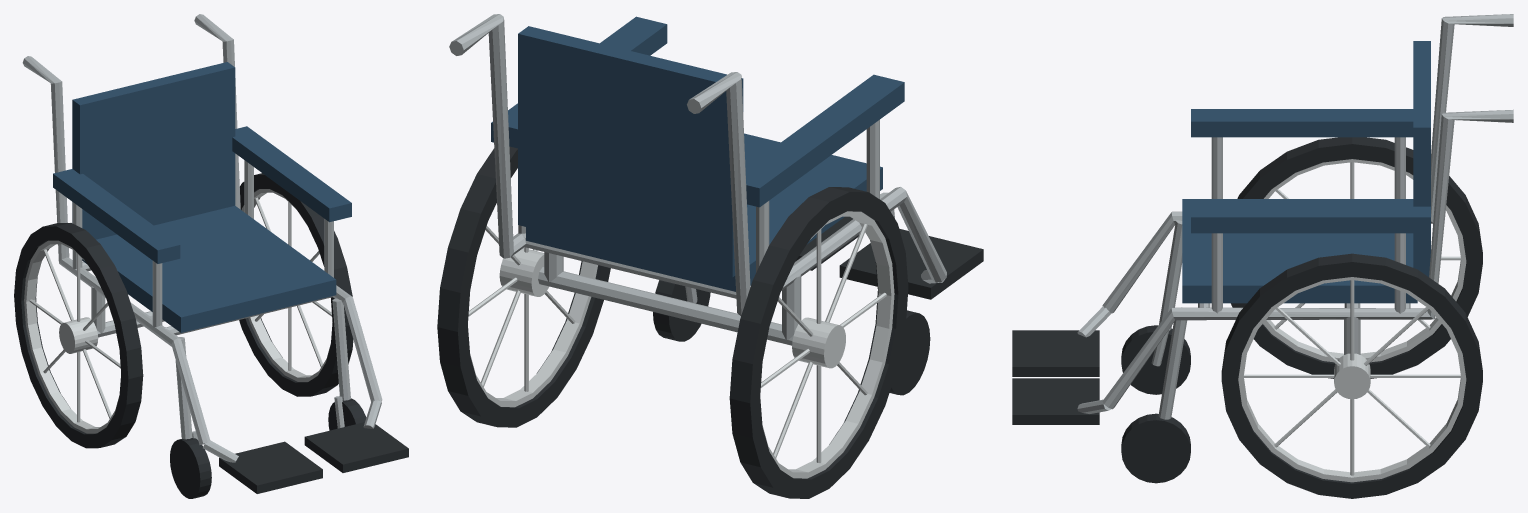
3 renders of one model, left to right at view 1: azimuth 30°, elevation 25°; view 2: azimuth 150°, elevation 25°; view 3: azimuth 270°, elevation 25°, orthographic. The views are drawn at different scales.
Visible parts, largest first — view 1: UprightBackCushion, SeatCushion, LeftOpenRearTire, RightOpenRearTire, LeftContinuousSideFrameAndPushHandle, LeftArmPad, RightArmPad, RightFootplate, LeftFootplate, LeftInnerMetalRim, RightContinuousSideFrameAndPushHandle, LeftFrontCaster (+9 smaller); view 2: UprightBackCushion, LeftOpenRearTire, RightOpenRearTire, LeftContinuousSideFrameAndPushHandle, SeatCushion, LeftArmPad, LeftInnerMetalRim, RightContinuousSideFrameAndPushHandle, SingleTransverseRearAxle, LeftFootplate, RightInnerMetalRim, RightArmPad (+8 smaller); view 3: RightOpenRearTire, SeatCushion, LeftOpenRearTire, RightArmPad, RightContinuousSideFrameAndPushHandle, LeftArmPad, RightInnerMetalRim, LeftContinuousSideFrameAndPushHandle, LeftFootplate, RightFootplate, RightFrontCaster, UprightBackCushion (+9 smaller).
Boxes of the visible parts, <box> form: UprightBackCushion: <box>72,62,235,239</box>; SeatCushion: <box>82,206,336,332</box>; LeftOpenRearTire: <box>14,223,143,448</box>; RightOpenRearTire: <box>239,173,353,396</box>; LeftContinuousSideFrameAndPushHandle: <box>22,56,210,444</box>; LeftArmPad: <box>53,169,180,263</box>; RightArmPad: <box>232,126,351,222</box>; RightFootplate: <box>304,422,408,472</box>; LeftFootplate: <box>219,441,322,493</box>; LeftInnerMetalRim: <box>24,240,119,433</box>; RightContinuousSideFrameAndPushHandle: <box>194,14,382,401</box>; LeftFrontCaster: <box>170,438,211,498</box>; UprightBackCushion: <box>518,26,743,277</box>; LeftOpenRearTire: <box>729,187,908,498</box>; RightOpenRearTire: <box>437,146,610,427</box>; LeftContinuousSideFrameAndPushHandle: <box>687,72,946,315</box>; SeatCushion: <box>526,133,882,291</box>; LeftArmPad: <box>728,74,904,207</box>; LeftInnerMetalRim: <box>762,211,894,478</box>; RightContinuousSideFrameAndPushHandle: <box>449,14,525,258</box>; SingleTransverseRearAxle: <box>538,267,793,345</box>; LeftFootplate: <box>839,228,983,299</box>; RightInnerMetalRim: <box>470,261,597,407</box>; RightArmPad: <box>491,16,667,148</box>; RightOpenRearTire: <box>1221,253,1482,498</box>; SeatCushion: <box>1182,199,1417,303</box>; LeftOpenRearTire: <box>1231,137,1482,378</box>; RightArmPad: <box>1191,205,1430,233</box>; RightContinuousSideFrameAndPushHandle: <box>1102,109,1513,409</box>; LeftArmPad: <box>1191,109,1413,137</box>; RightInnerMetalRim: <box>1238,277,1466,482</box>; LeftContinuousSideFrameAndPushHandle: <box>1102,14,1513,313</box>; LeftFootplate: <box>1012,330,1099,376</box>; RightFootplate: <box>1012,378,1099,424</box>; RightFrontCaster: <box>1121,413,1190,483</box>; UprightBackCushion: <box>1413,41,1430,276</box>.
Bounding box in the file's own units: 0.71 × 0.946 × 1.15.
